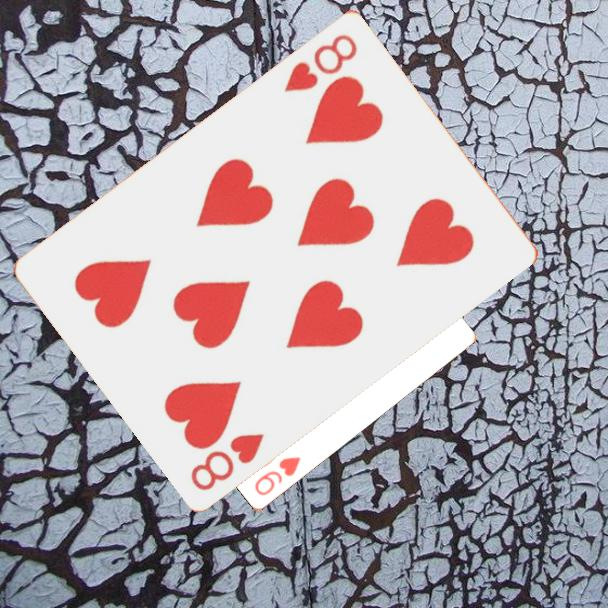h08: (280, 29, 361, 95), (187, 429, 268, 493)
h09: (251, 453, 304, 498)
